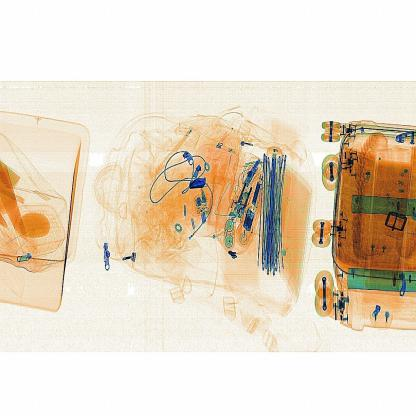knife: (179, 170, 212, 196)
